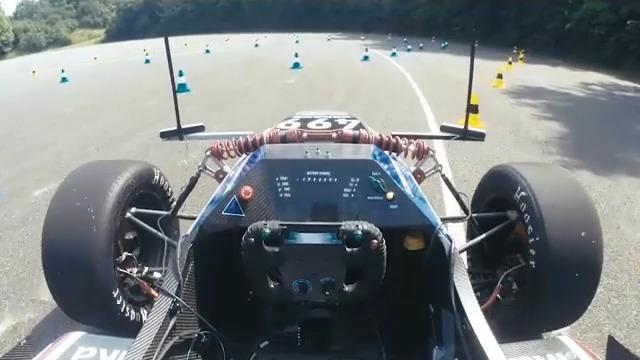blue_cone: (174, 69, 191, 94), (290, 52, 303, 70), (361, 47, 372, 62), (60, 68, 69, 83), (144, 53, 152, 64)
yellow_cone: (459, 93, 486, 133), (491, 67, 507, 89), (505, 57, 515, 71)
